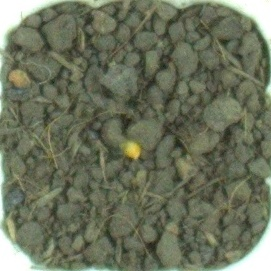chilli seed: (110, 119, 150, 162)
